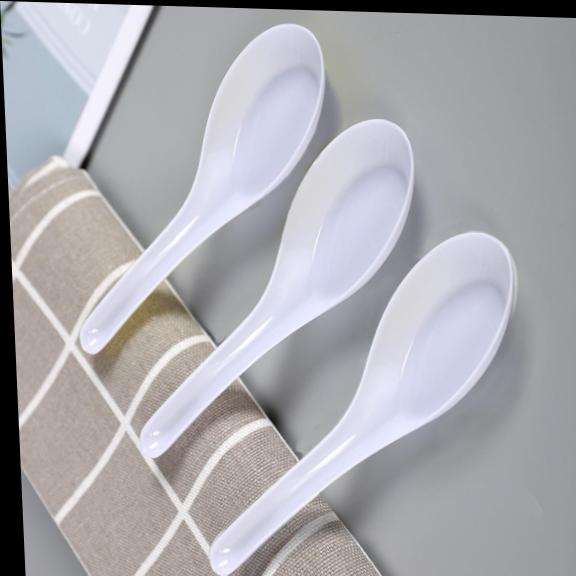Plastik: (210, 232, 514, 574), (140, 119, 413, 456), (80, 23, 325, 352)
